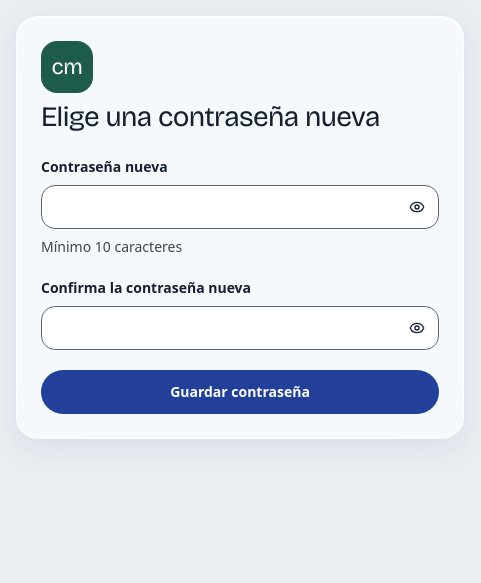
Test: ataque (AUTH-02b r1): el token después de leerlo › una sesión abierta en la pestaña no hace que /restablecer consulte /me ni refresque
Type "clave-nueva-de-ataque-1" into the password field labelled "Contraseña nueva" at (240, 208), box [41,186,439,230]
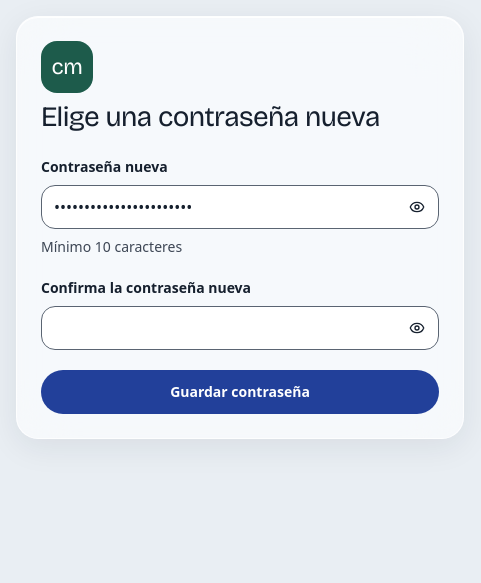
Type "clave-nueva-de-ataque-1" into the password field labelled "Confirma la contraseña nueva" at (240, 328), box [41,306,439,350]
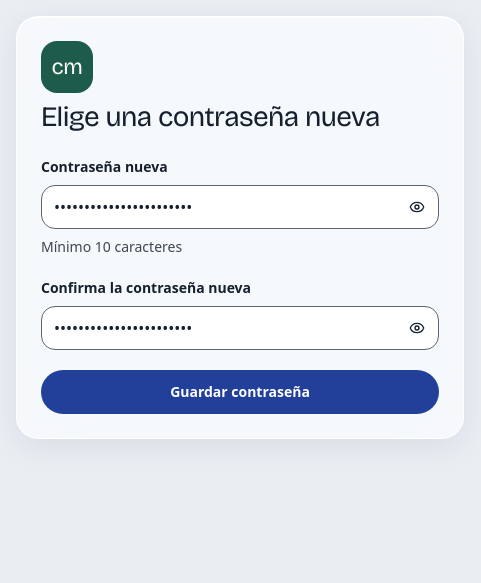
Click the button "Guardar contraseña" at (240, 392), box [41,370,439,414]
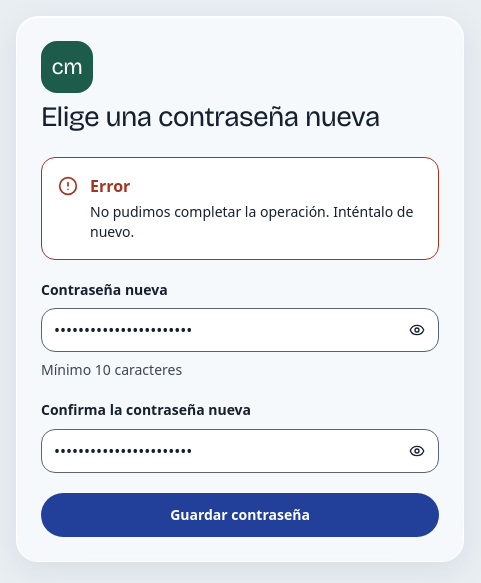
Now the message "Error No pudimos completar la operación. Inténtalo de nuevo." is shown, box [41,157,439,260]
